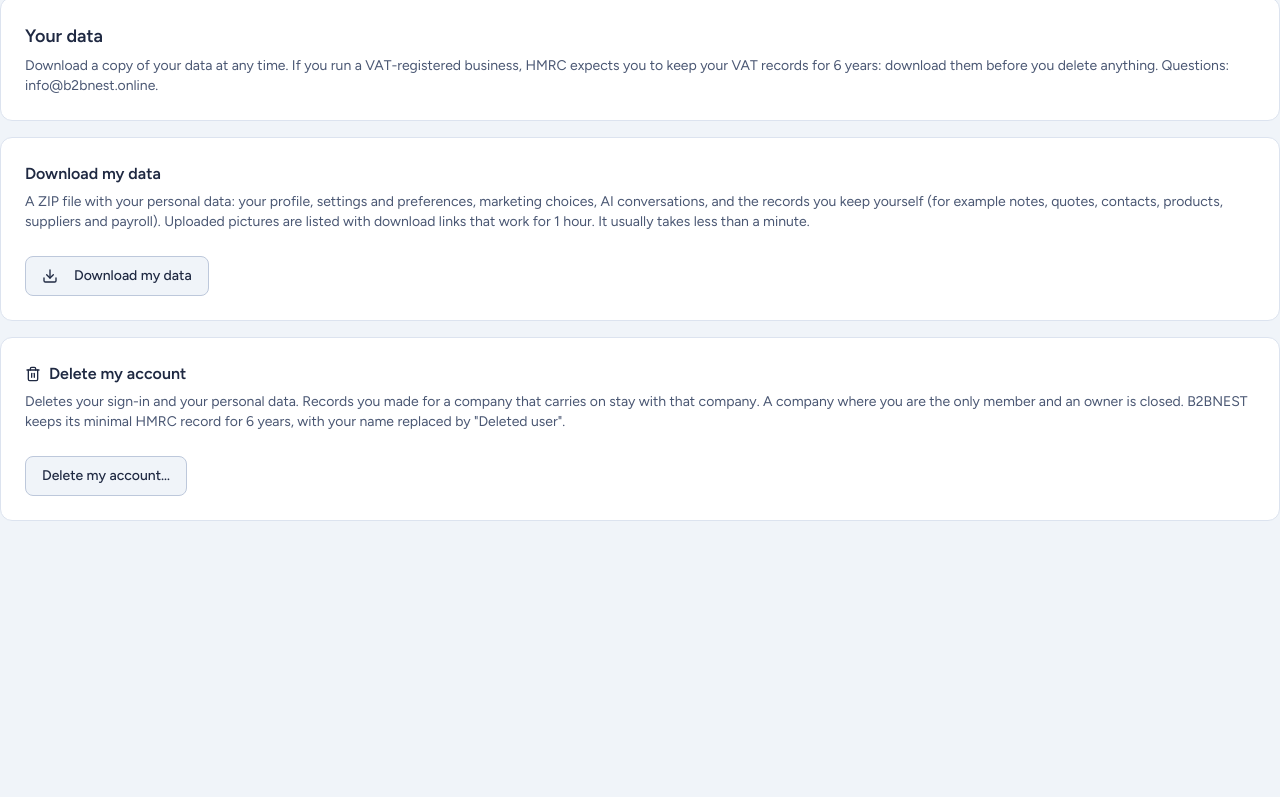
Settings → Your data › delete my account: a failed identity check stops before anything is deleted
This screenshot has width=1280, height=797.
Click the button with test id "data-delete-account-start". click: (106, 476)
box: [25, 456, 187, 496]
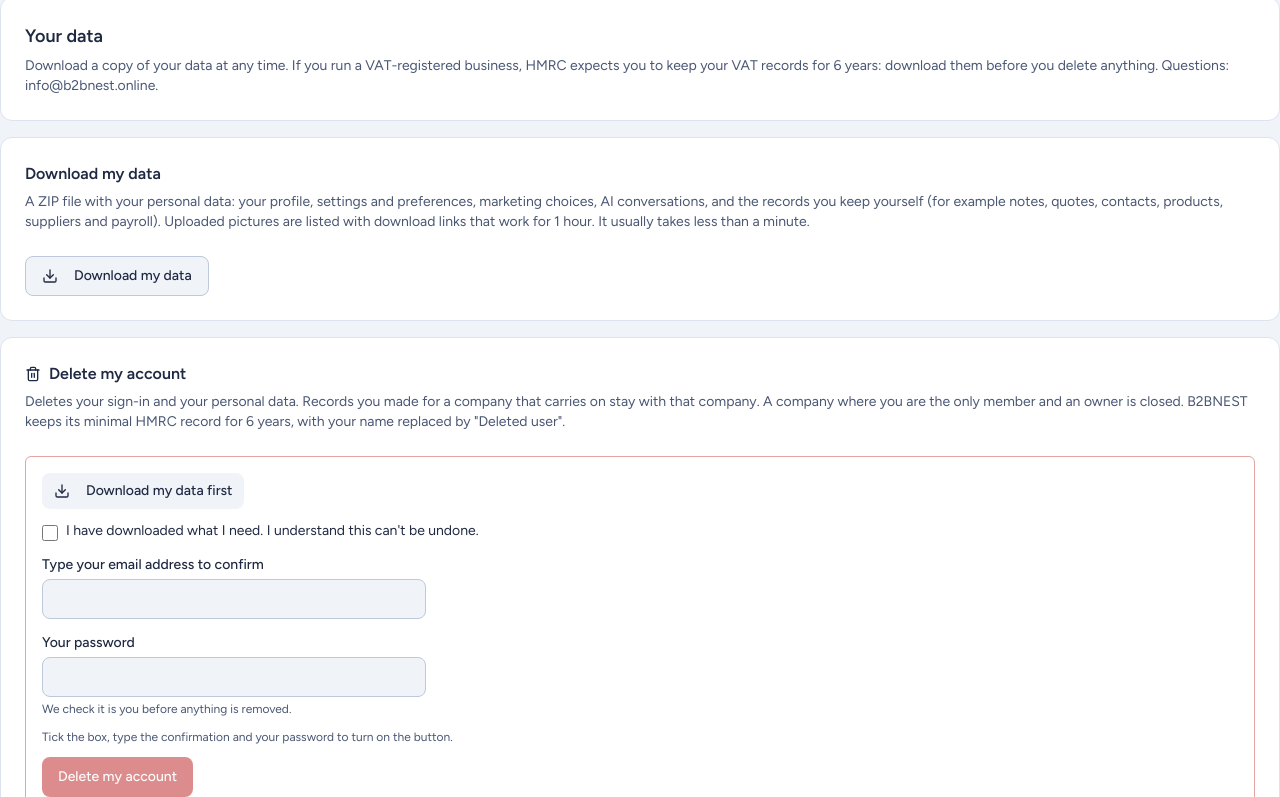
Click the checkbox with test id "data-delete-account-confirm-downloaded". click: (50, 533)
box: [42, 525, 58, 541]
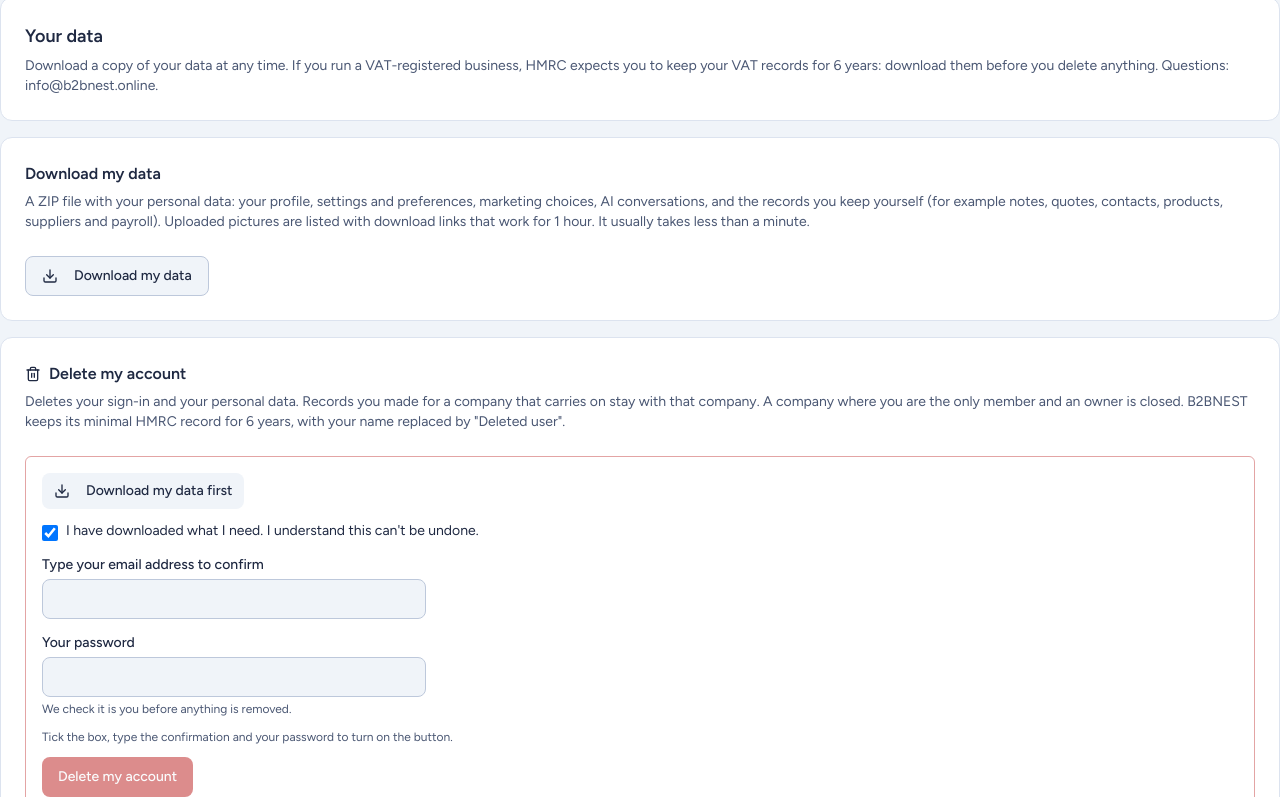
Type "ann@example.test" into the field labelled "Type your email address to confirm". click: (234, 599)
box: [42, 579, 426, 619]
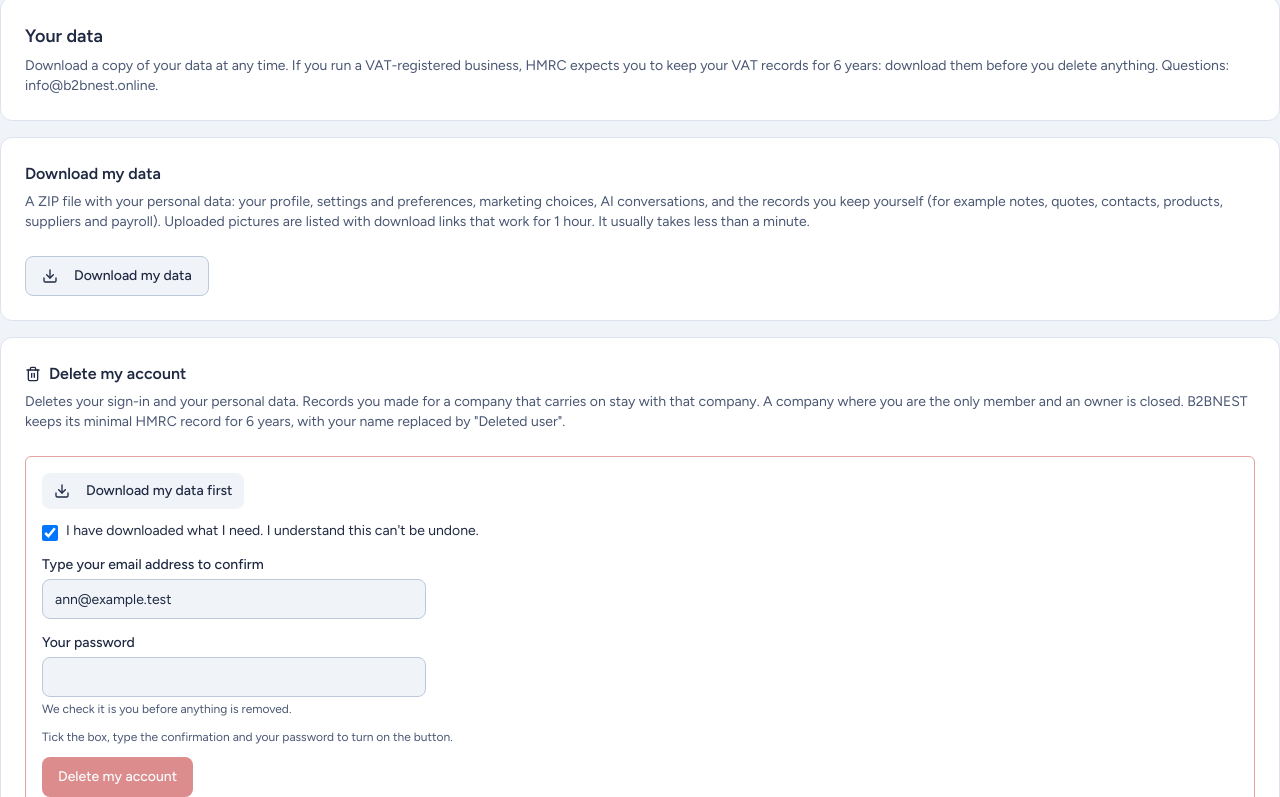
Type "wrong" into the password field labelled "Your password". click: (234, 677)
box: [42, 657, 426, 697]
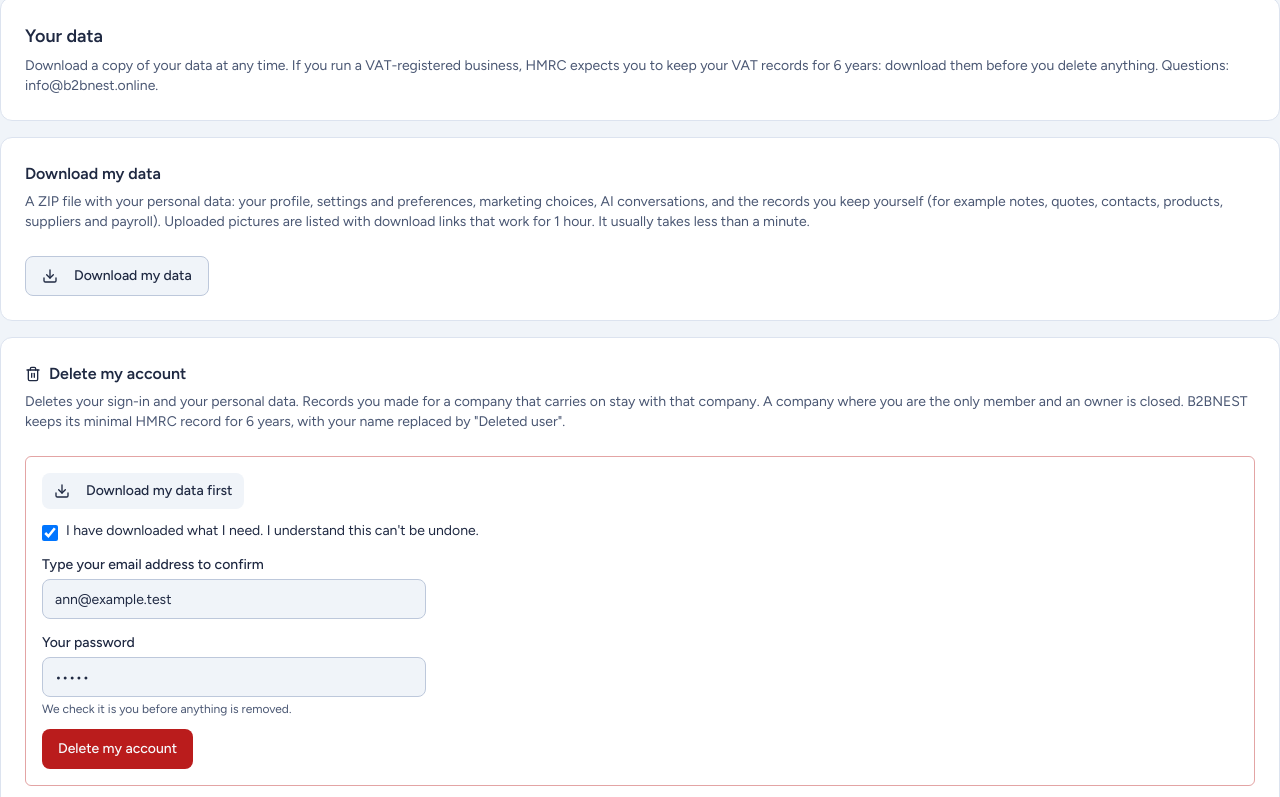
Click the button with test id "data-delete-account-confirm-go". click: (118, 749)
box: [42, 729, 193, 769]
(page scrolled)
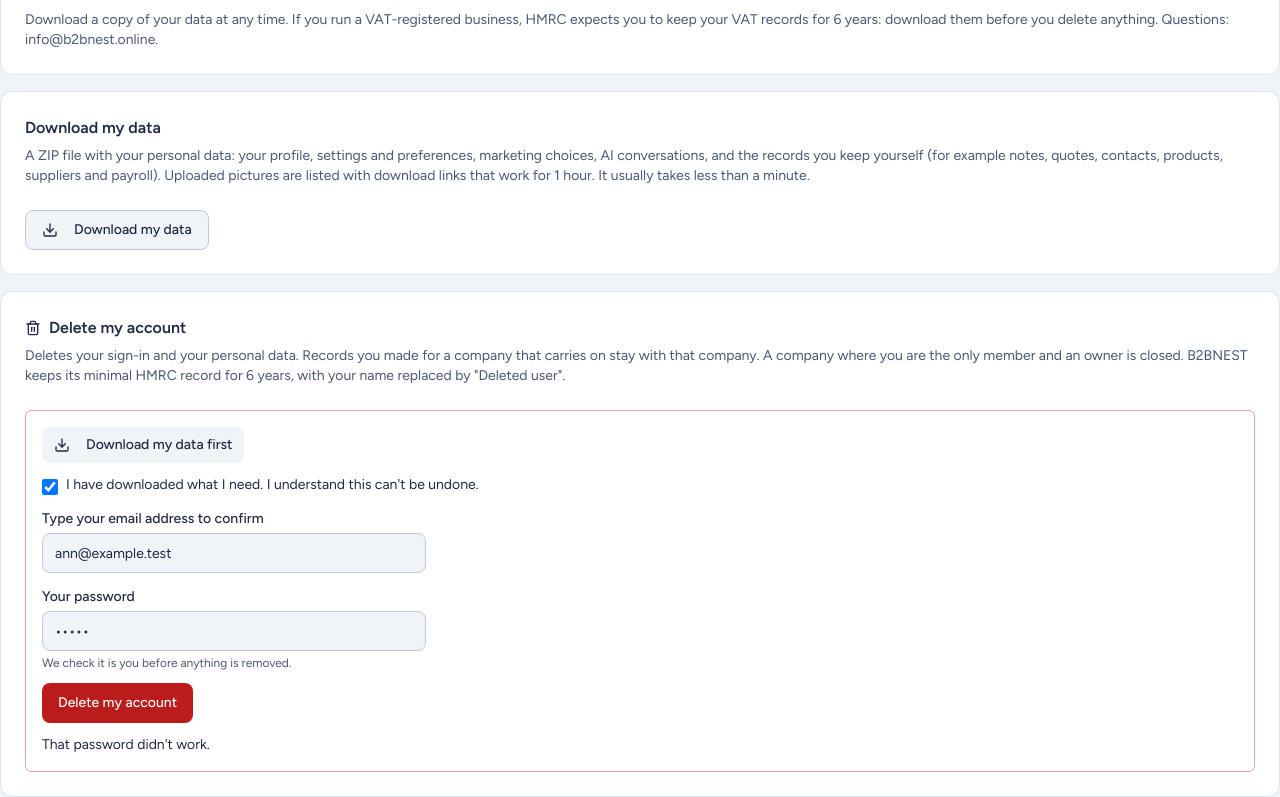
Expected: the message with test id "data-delete-account-confirm-error" reads "That password didn't work.", [42, 736, 210, 753]
